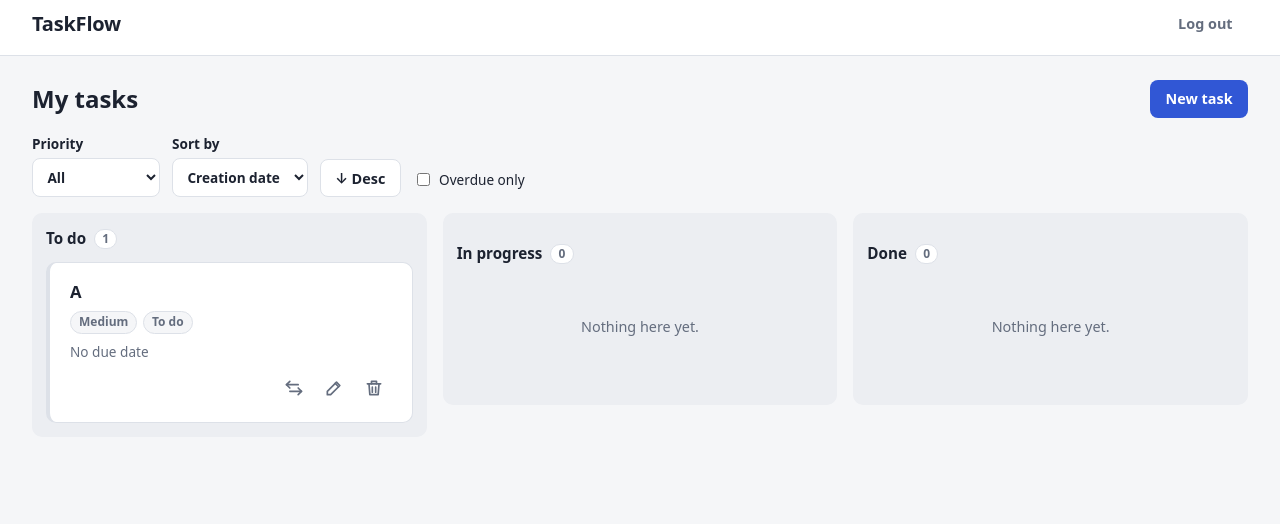
Test: TasksPage › keeps cards to three icon buttons, with the other statuses one menu away
Expected: the heading "A" is shown, 70,280 -> 82,303
Expected: the button named "Edit" is empty, 316,370 -> 352,406
Step 1. Click the button named "Move" → (294, 388), box 276,370 -> 312,406
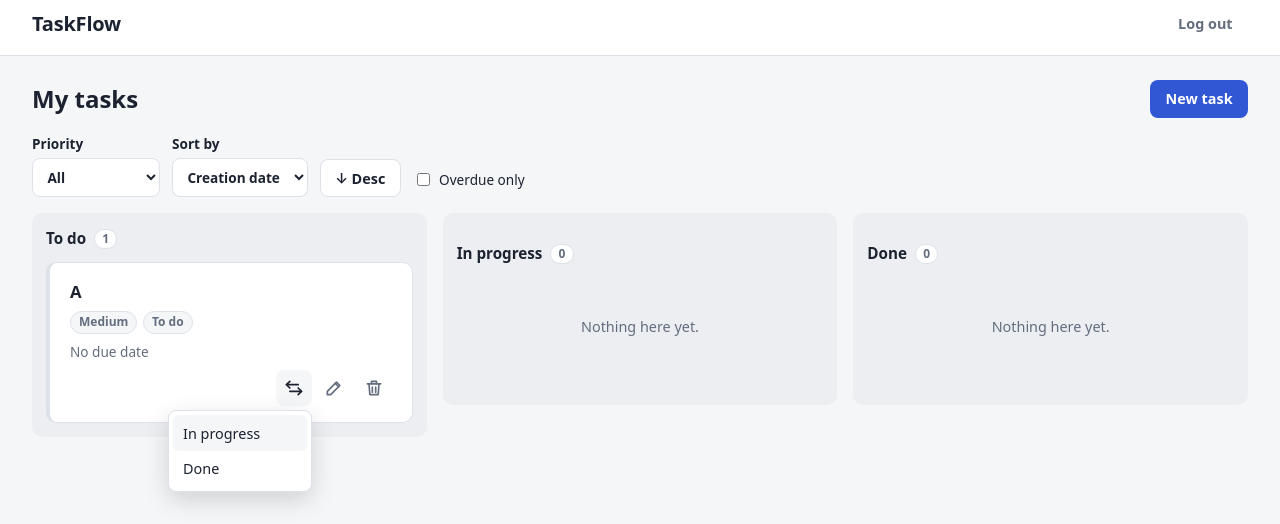
Result: the menu items read "In progress", "Done", in this order at 173,415 -> 307,451; 173,451 -> 307,487
Step 2. Press Escape
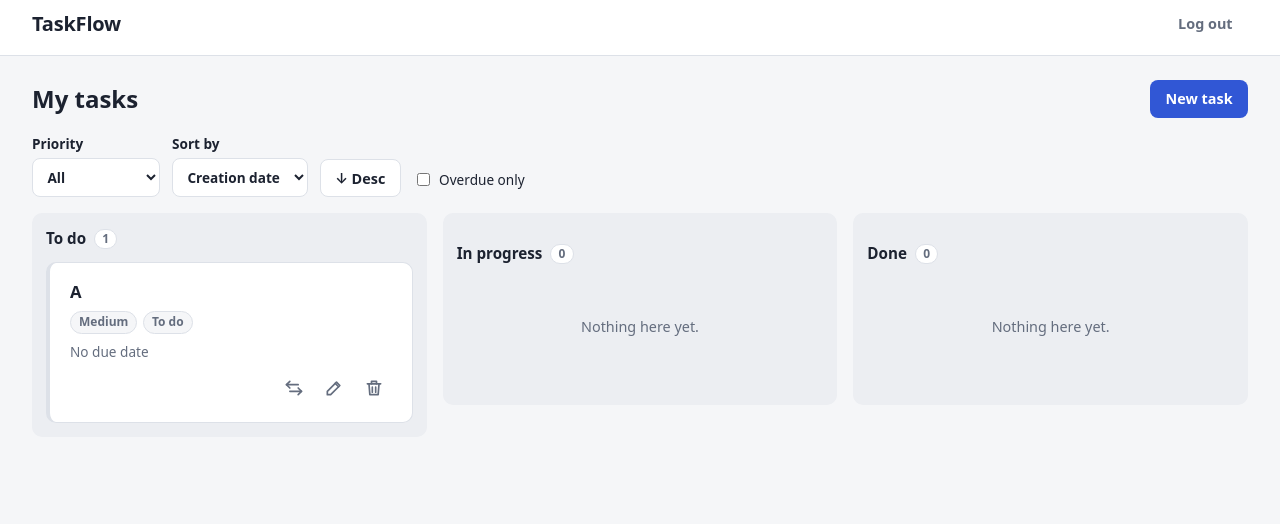
Result: the menu is gone
